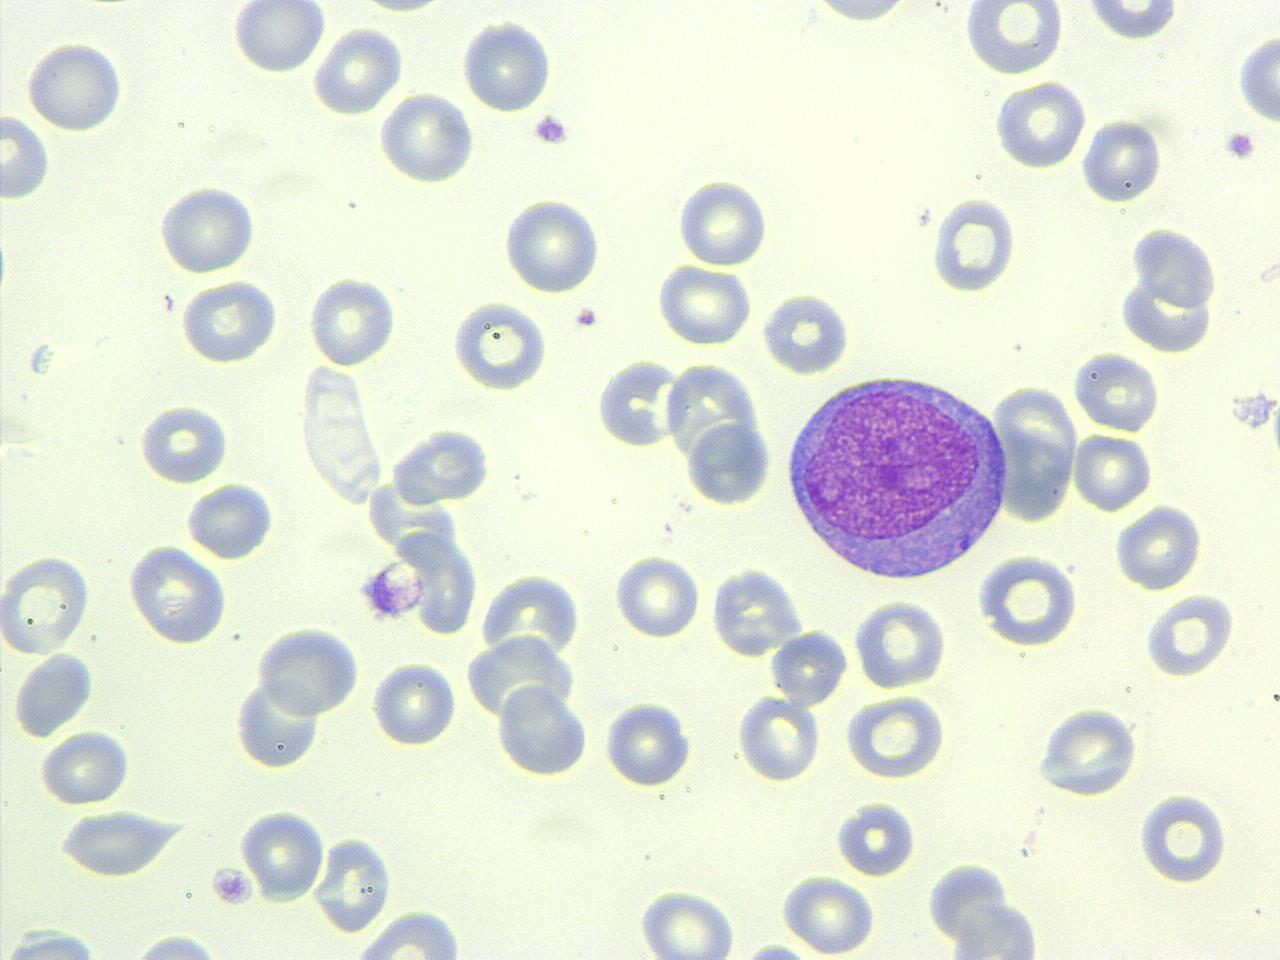Platelets: (458, 17, 559, 116), (56, 808, 184, 878), (390, 426, 500, 505), (760, 290, 854, 376), (182, 480, 279, 562), (1077, 118, 1165, 207), (831, 798, 920, 878), (1235, 31, 1280, 127), (362, 557, 425, 622), (1227, 387, 1275, 434), (529, 111, 573, 149), (356, 567, 389, 615), (742, 938, 806, 960), (1221, 128, 1259, 164), (1, 226, 16, 301), (1264, 394, 1280, 464), (570, 306, 600, 331), (357, 572, 380, 598)
RBC: (934, 0, 1280, 415), (125, 542, 230, 646), (500, 192, 603, 294), (255, 622, 362, 720), (975, 550, 1081, 647), (22, 36, 128, 134), (1034, 703, 1142, 799), (0, 550, 91, 658), (375, 88, 476, 186), (449, 296, 551, 392), (156, 182, 258, 276), (459, 16, 554, 116), (495, 679, 590, 778), (55, 808, 184, 880), (1136, 788, 1230, 887), (851, 596, 950, 690), (844, 692, 948, 781), (992, 76, 1089, 171), (674, 172, 768, 270), (308, 270, 400, 370), (929, 192, 1018, 294), (177, 278, 282, 365), (298, 362, 376, 476), (390, 424, 496, 506), (654, 262, 756, 348), (310, 24, 404, 116), (1142, 589, 1238, 679), (594, 356, 684, 450), (1111, 502, 1205, 592), (240, 805, 327, 903), (311, 832, 394, 934), (600, 698, 693, 788), (780, 872, 880, 956), (369, 657, 459, 749), (758, 290, 854, 376), (231, 680, 321, 770), (734, 692, 822, 784), (135, 400, 232, 484), (1078, 115, 1168, 205), (612, 552, 702, 640), (1071, 346, 1163, 434), (959, 2, 1067, 76), (683, 419, 773, 506), (182, 480, 277, 560), (635, 886, 737, 960), (227, 1, 328, 75), (37, 730, 132, 808), (1070, 430, 1154, 516), (830, 796, 918, 878), (412, 534, 480, 638), (348, 908, 470, 959), (769, 626, 848, 706), (950, 898, 1044, 960), (1, 108, 53, 204), (1081, 0, 1181, 43), (801, 0, 917, 31)
WBC: (776, 364, 1018, 581), (662, 353, 774, 498), (1115, 220, 1223, 358), (384, 422, 498, 505), (684, 419, 773, 508), (9, 648, 95, 740), (945, 901, 1048, 959), (119, 928, 236, 959), (0, 925, 108, 958)
